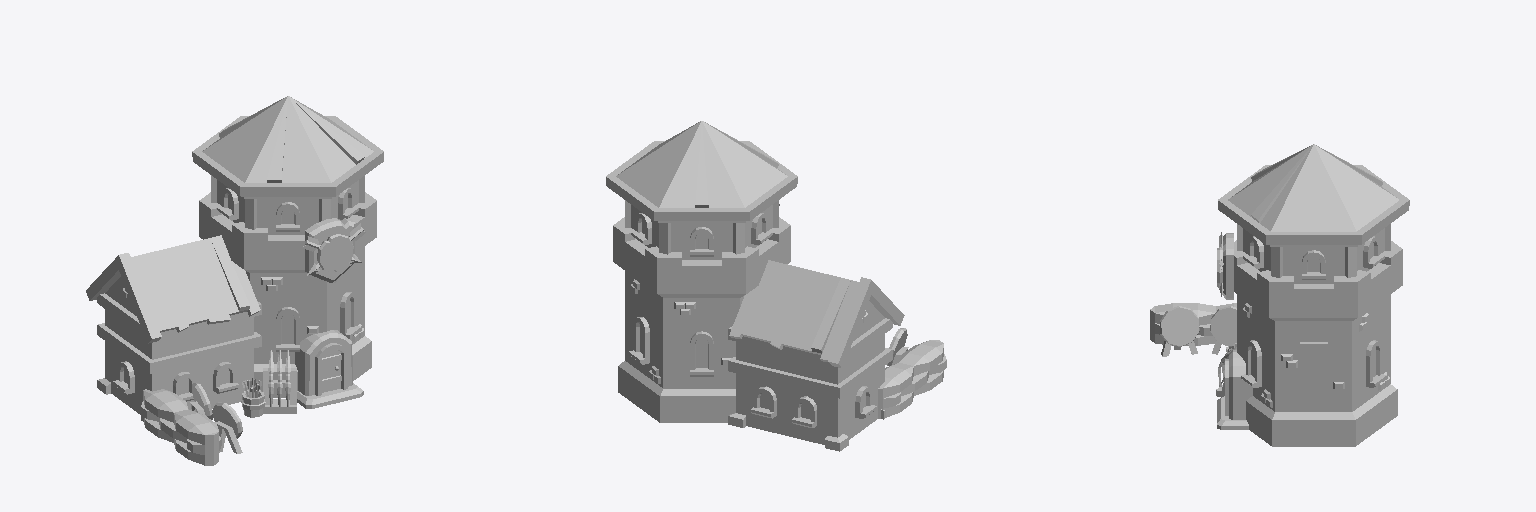
File: building_archeryrange_red.obj
3 views of the same model, side by side, from view 1: azimuth 30°, elevation 25°; view 2: azimuth 150°, elevation 25°; view 3: azimuth 270°, elevation 25° (orthographic).
Visible parts, largest first — view 1: building_archeryrange_red; view 2: building_archeryrange_red; view 3: building_archeryrange_red.
Part boxes in pixels (x1,y1,x2,y2): building_archeryrange_red: (86, 96, 383, 465); building_archeryrange_red: (606, 121, 946, 451); building_archeryrange_red: (1150, 144, 1409, 446).
Size of the model in its own units: 1.67 by 1.79 by 1.55.